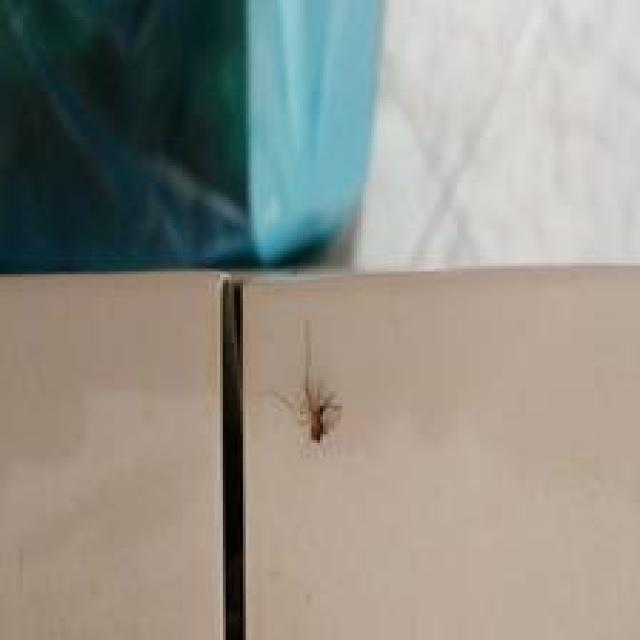Culex: (267, 317, 344, 446)
